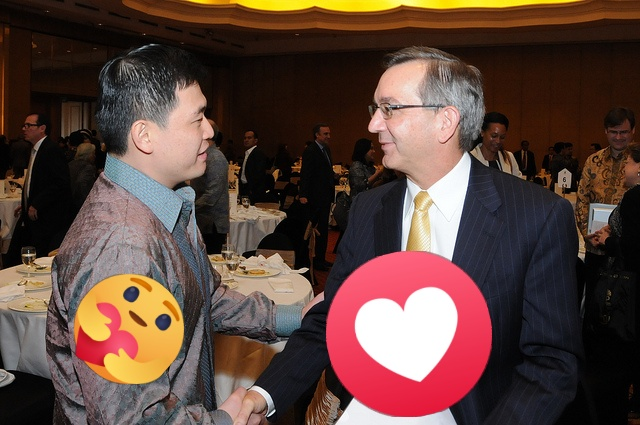care: (74, 274, 184, 384)
love: (326, 251, 492, 417)
